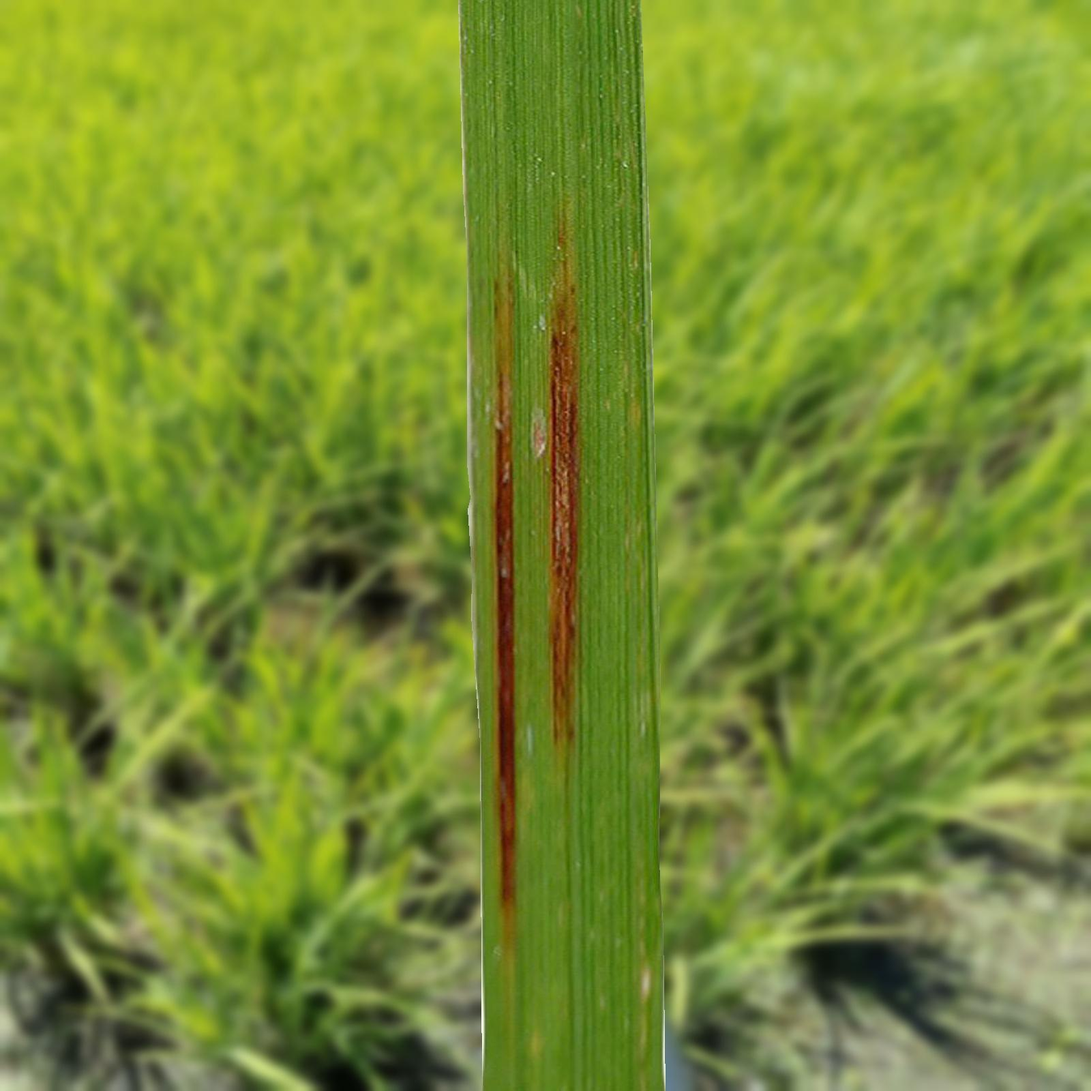LEAF: (458, 0, 665, 1090)
NBS: (550, 228, 580, 754), (494, 273, 516, 953)
